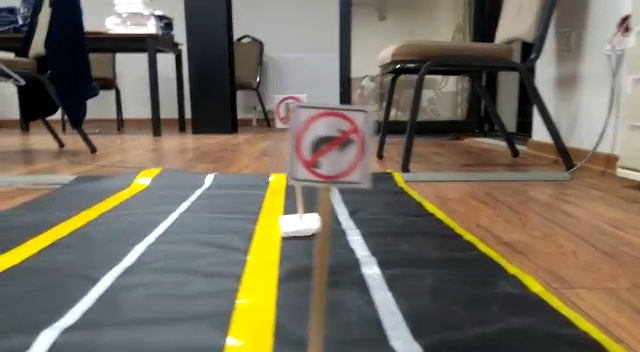saga_donulmez: (299, 109, 374, 188)
